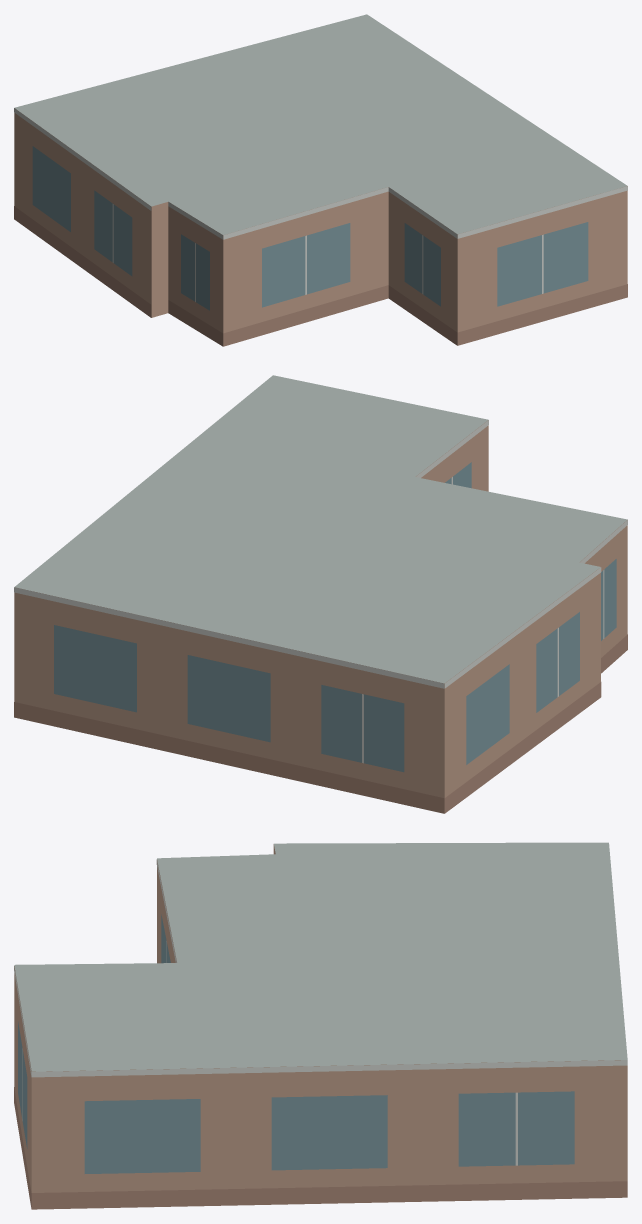
The model's file is survey-upis-32734015.glb.
3 renders of one model, top to bottom at view 1: azimuth 30°, elevation 25°; view 2: azimuth 150°, elevation 25°; view 3: azimuth 270°, elevation 25°, orthographic. The views are drawn at different scales.
Parts seen in each view (by area): view 1: survey-upis-32734015.tmp; view 2: survey-upis-32734015.tmp; view 3: survey-upis-32734015.tmp.
Part boxes in pixels (box(x1,y1,x2,y2)): survey-upis-32734015.tmp: box(14, 14, 627, 346); survey-upis-32734015.tmp: box(14, 375, 627, 813); survey-upis-32734015.tmp: box(14, 842, 627, 1209).
Bounding box in the file's own units: 10.9 × 3.05 × 12.33.
